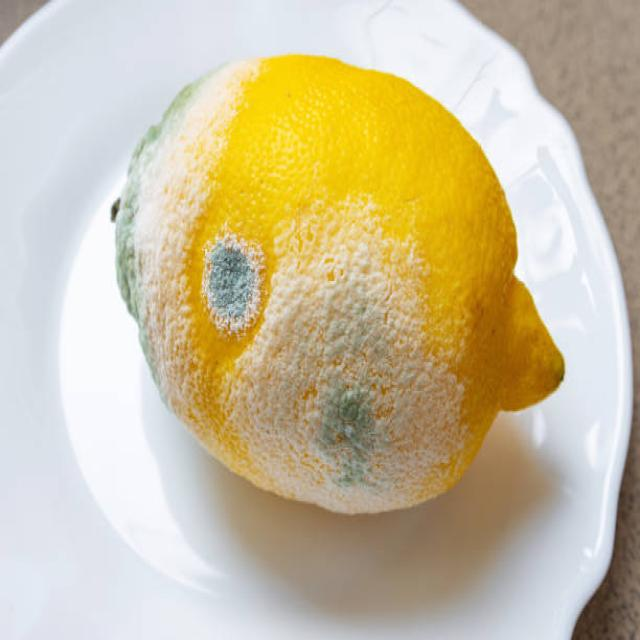Rotten: (109, 48, 564, 514)
